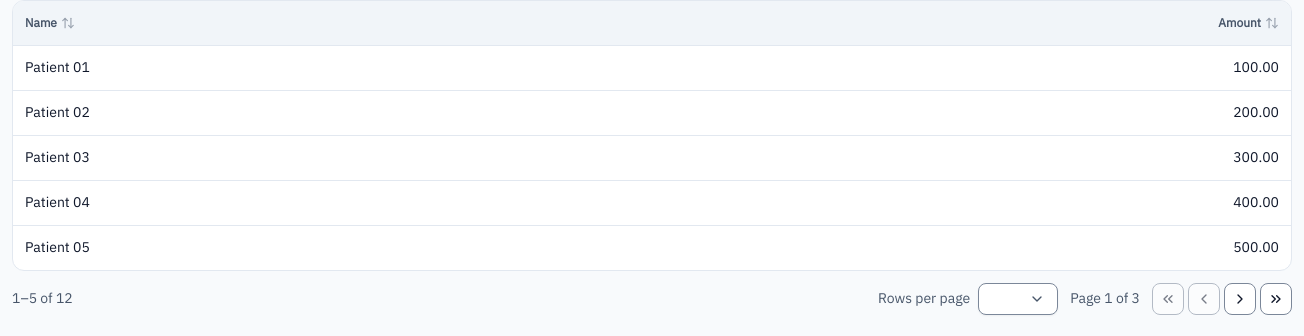
DataTable › paginates and sorts
The image size is (1304, 336).
Expected: the text "1–5 of 12" is shown, [12, 288, 73, 308]
Click the button named "Next page".
click(1240, 298)  # box [1224, 282, 1256, 314]
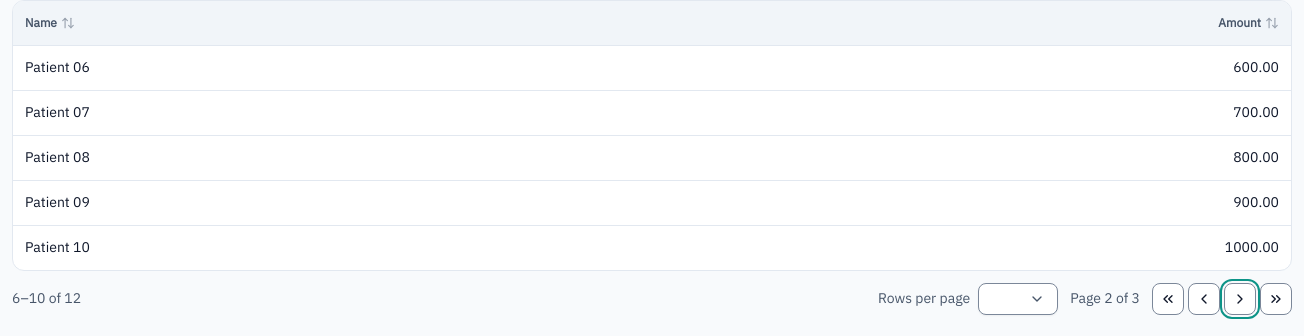
Expected: the text "6–10 of 12" is shown, [12, 288, 81, 308]
Expected: the text "Patient 06" is shown, [13, 46, 667, 90]
Click the button with aria-label "Sort by Name".
click(50, 23)  # box [19, 11, 81, 35]
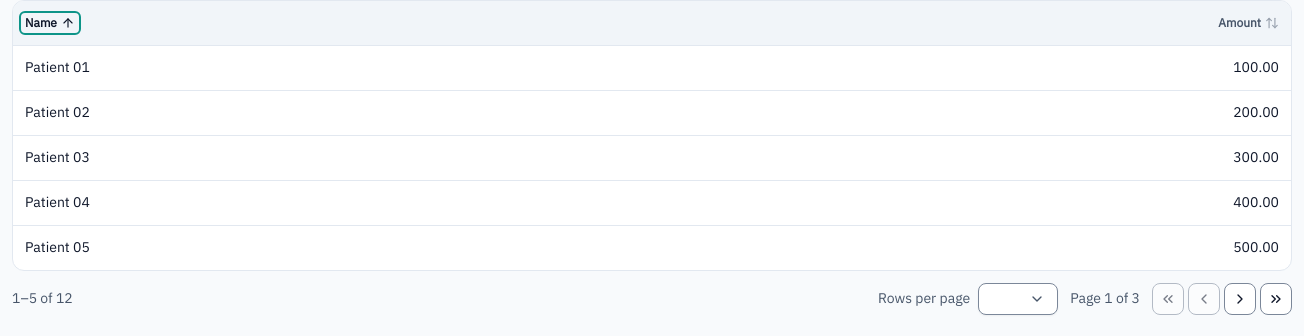
Click the button with aria-label "Sort by Name".
click(50, 23)  # box [19, 11, 81, 35]
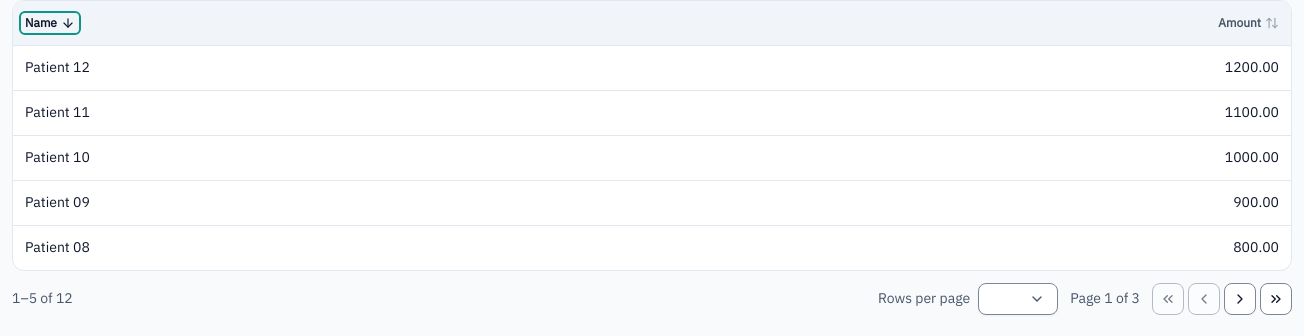
Expected: the row "Patient 12 1200.00" is shown, [13, 46, 1291, 90]
